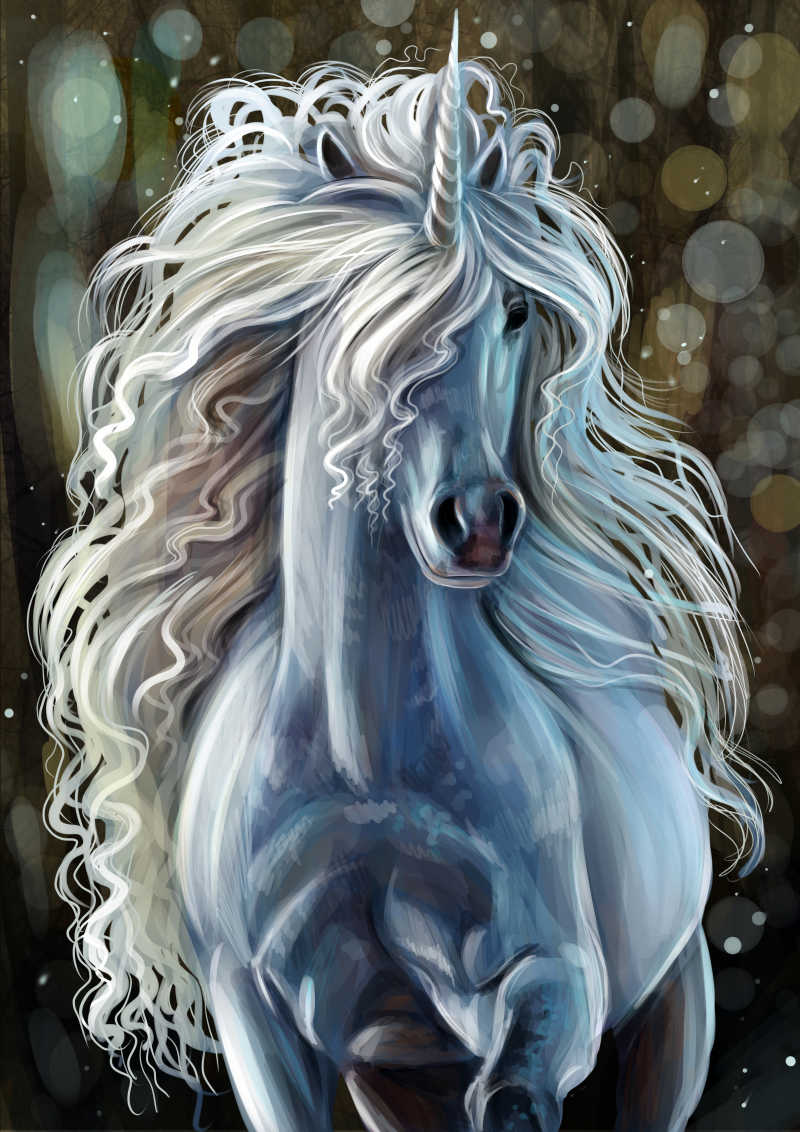background: (33, 44, 800, 1132)
